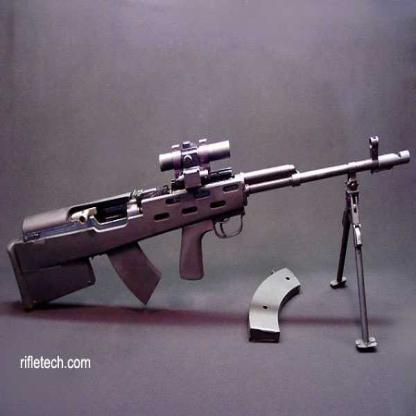rifle: (4, 95, 413, 327)
